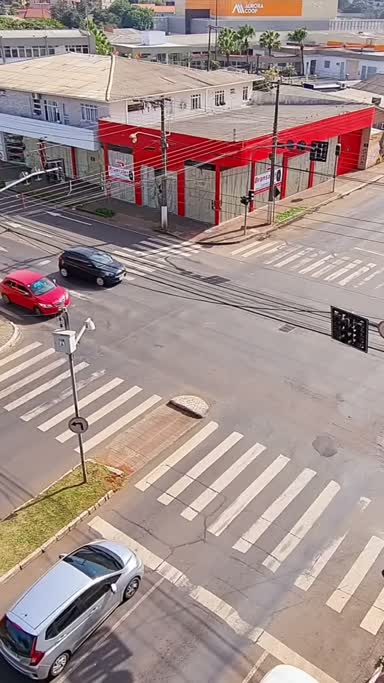car: (0, 532, 143, 678), (1, 264, 76, 328), (52, 238, 130, 292)
